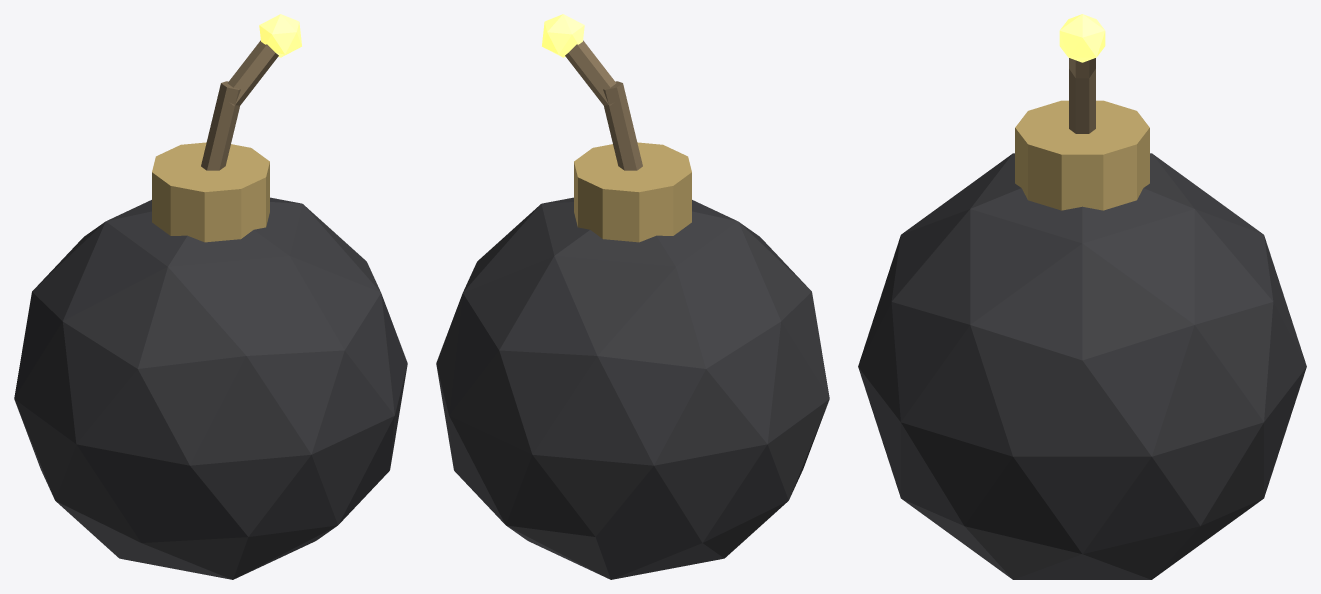
File: bomb.glb
3 views of the same model, side by side, from view 1: azimuth 30°, elevation 25°; view 2: azimuth 150°, elevation 25°; view 3: azimuth 270°, elevation 25° (orthographic). The views are drawn at different scales.
Parts seen in each view (by area): view 1: Bomb_Body, Bomb_Neck, Bomb_Fuse0, Bomb_Fuse1, Spark; view 2: Bomb_Body, Bomb_Neck, Bomb_Fuse0, Bomb_Fuse1, Spark; view 3: Bomb_Body, Bomb_Neck, Spark, Bomb_Fuse0.
Part boxes in pixels (left/top/right/bottom): Bomb_Body: left=14, top=197, right=407, bottom=579; Bomb_Neck: left=152, top=142, right=269, bottom=242; Bomb_Fuse0: left=201, top=81, right=240, bottom=170; Bomb_Fuse1: left=227, top=40, right=278, bottom=105; Spark: left=259, top=14, right=301, bottom=57; Bomb_Body: left=436, top=197, right=829, bottom=579; Bomb_Neck: left=574, top=142, right=691, bottom=242; Bomb_Fuse0: left=603, top=81, right=642, bottom=170; Bomb_Fuse1: left=565, top=40, right=616, bottom=105; Spark: left=542, top=14, right=584, bottom=57; Bomb_Body: left=858, top=153, right=1306, bottom=579; Bomb_Neck: left=1015, top=100, right=1149, bottom=210; Spark: left=1059, top=14, right=1105, bottom=62; Bomb_Fuse0: left=1069, top=69, right=1095, bottom=133.
Size of the model in its own units: 0.1902 by 0.292 by 0.2.
